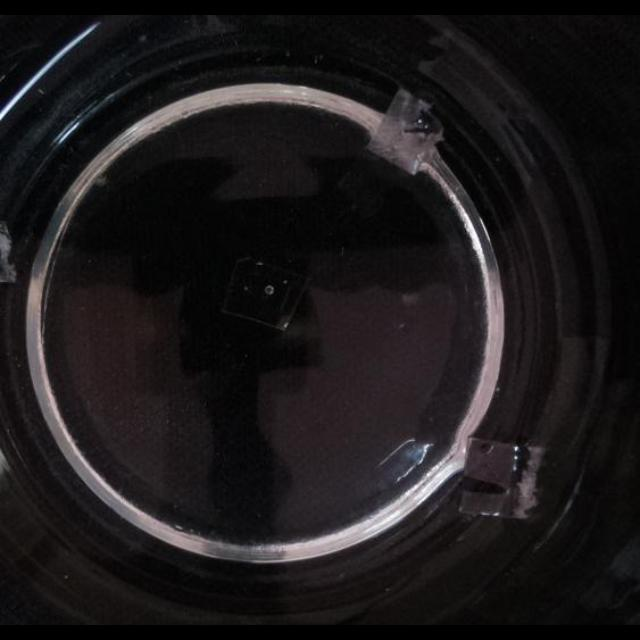Film: (453, 434, 539, 520), (220, 253, 312, 330), (367, 90, 443, 174), (0, 218, 20, 287)
